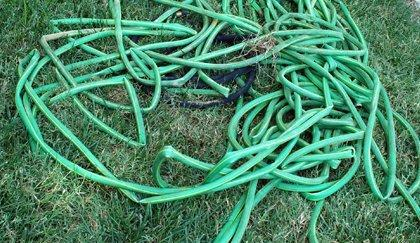Nonrec_Tangler: (19, 7, 412, 211)
